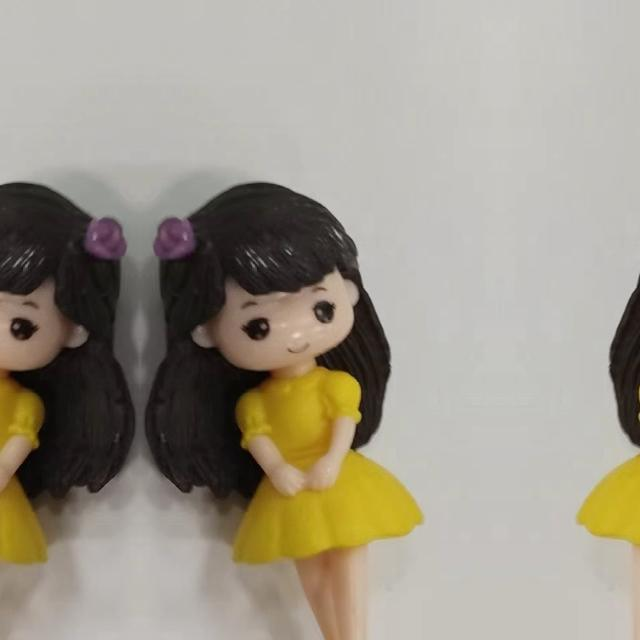woman dress: (232, 355, 417, 640), (582, 355, 640, 640), (0, 355, 47, 640)
woman head: (150, 162, 388, 392), (0, 161, 130, 392), (611, 161, 640, 392)
